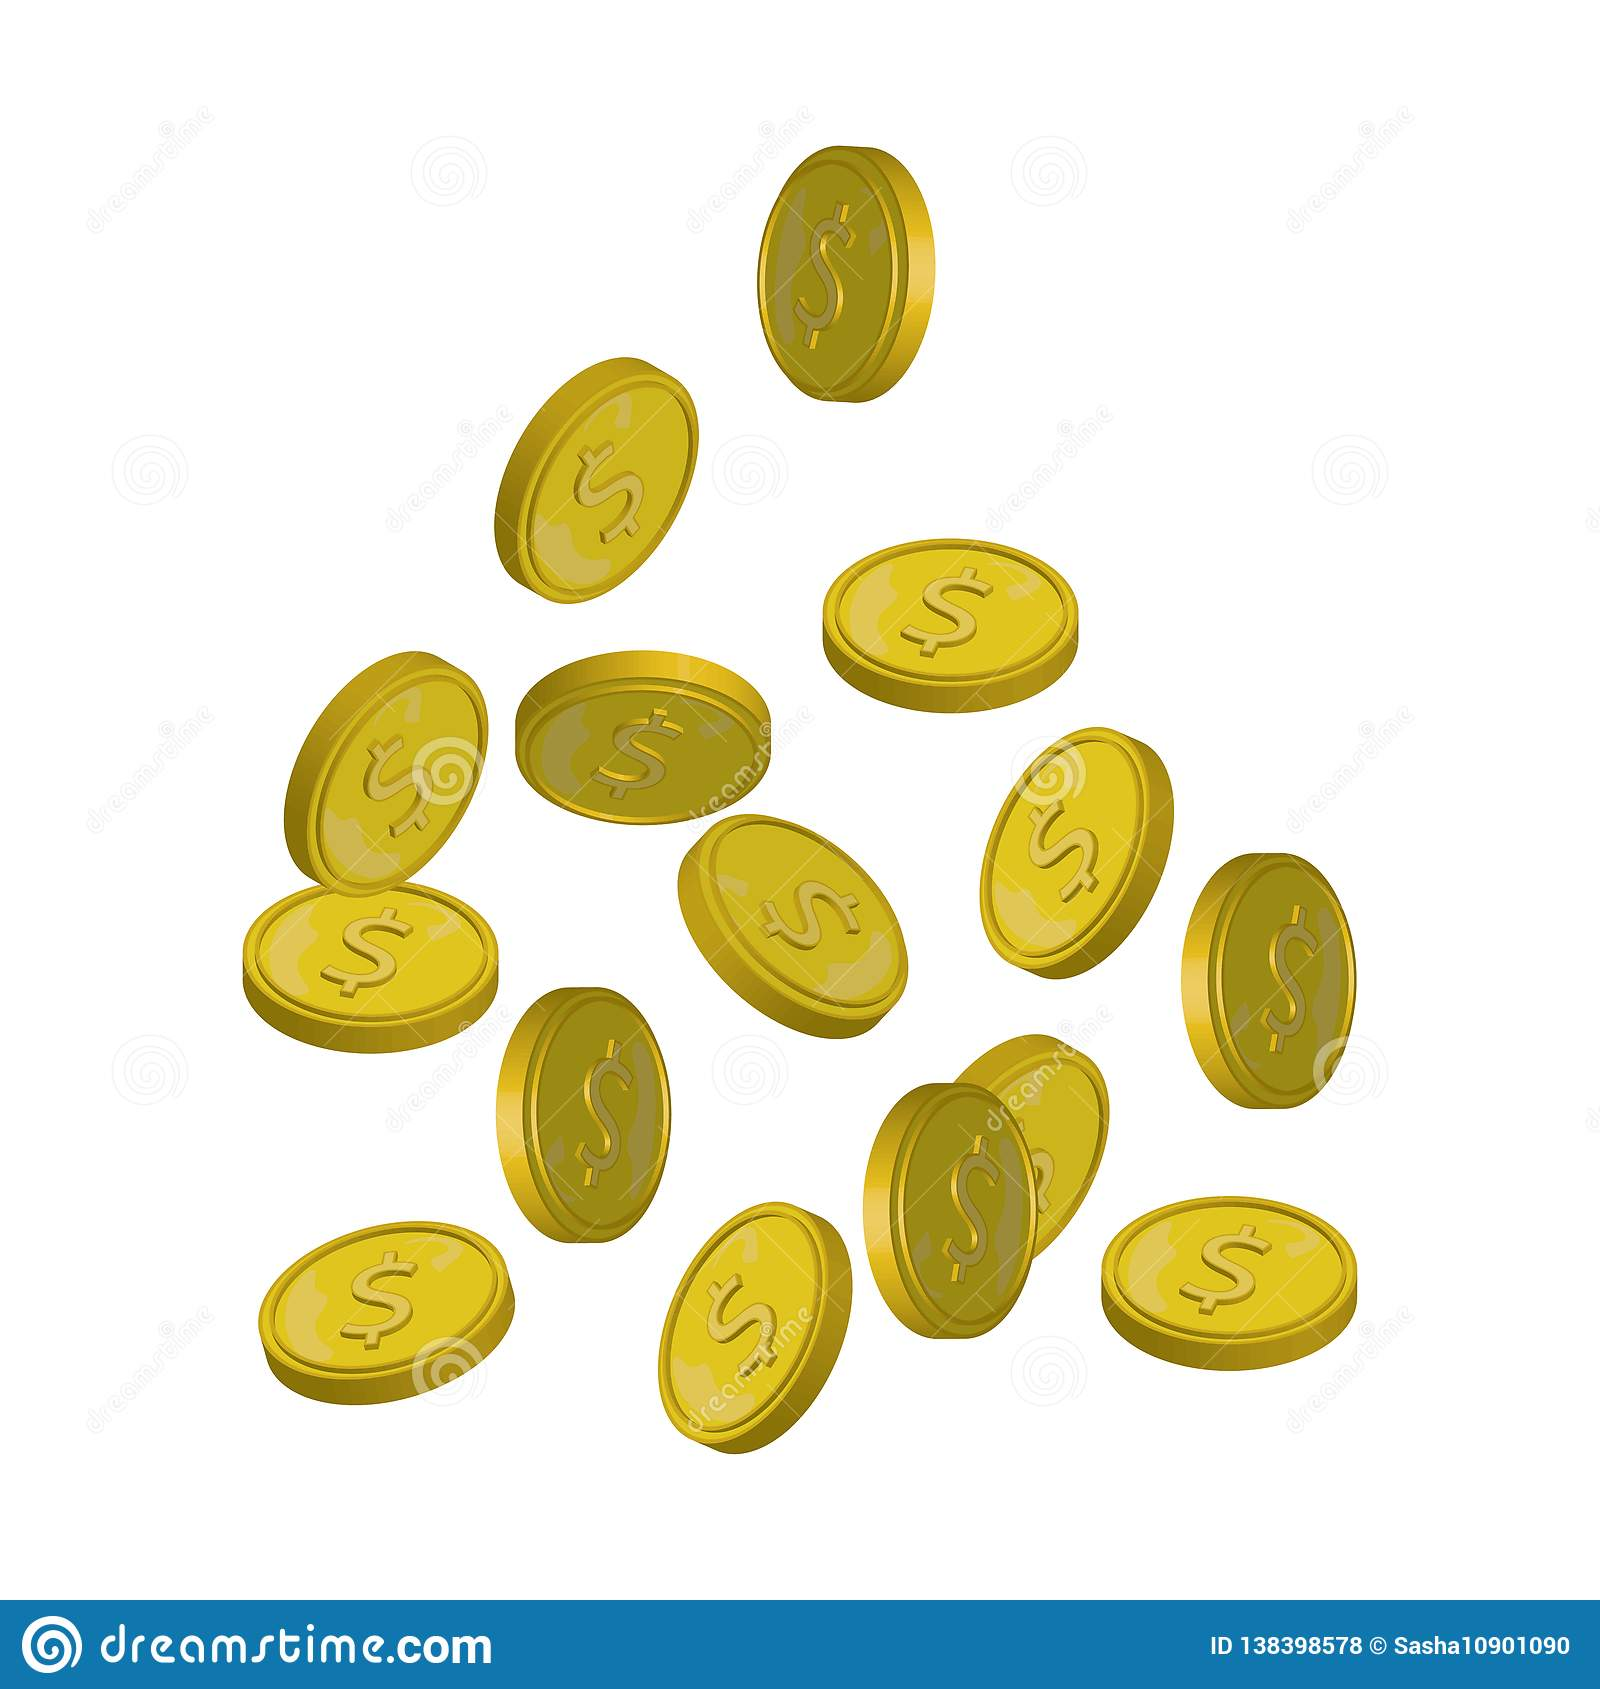coin: (678, 815, 908, 1036), (283, 651, 489, 896), (979, 726, 1176, 979), (495, 359, 698, 603), (654, 1203, 854, 1448), (1093, 1193, 1359, 1367), (256, 1223, 513, 1403), (511, 650, 771, 827), (1179, 854, 1359, 1108), (759, 144, 935, 403), (862, 1081, 1035, 1342), (823, 537, 1078, 713), (498, 990, 672, 1242), (242, 886, 499, 1051), (953, 1033, 1110, 1257)
